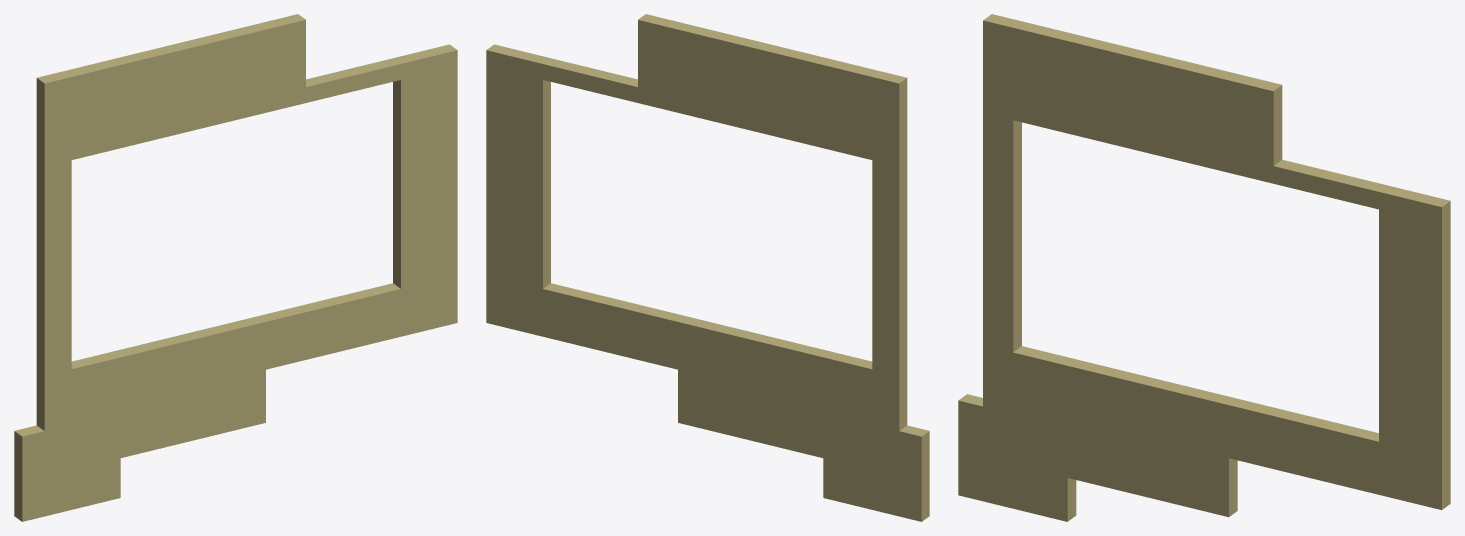
The model's file is ruin6.fbx.
The picture shows the model from 3 angles, left to right: view 1: azimuth 30°, elevation 25°; view 2: azimuth 150°, elevation 25°; view 3: azimuth 330°, elevation 25°; orthographic projection. The views are drawn at different scales.
Visible parts, largest first — view 1: Boole_4; view 2: Boole_4; view 3: Boole_4.
Part boxes in pixels (box(x1,y1,x2,y2)): Boole_4: box(14, 14, 457, 521); Boole_4: box(486, 14, 929, 521); Boole_4: box(958, 14, 1450, 521).
Bounding box in the file's own units: 344 × 327 × 10.86.
